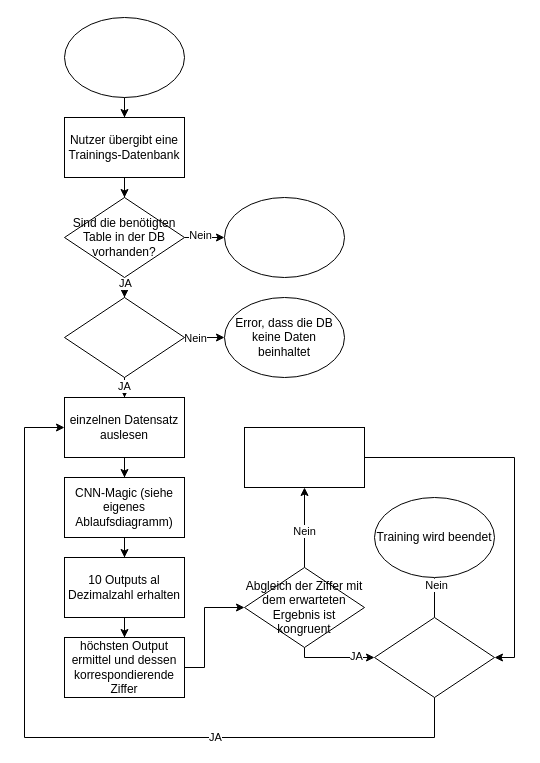
Image size: 540x763. Some labels were removed from this diagram. Each missing label, with the box of its shape:
Anpassung der einzelnen Knotenpunkte in den FC-Layern: (244, 426, 364, 488)
Error, dass die DB nicht korrekt gebaut ist: (224, 196, 344, 278)
Nutzer startet Applikation im Trainingsmodus: (64, 16, 184, 98)
Sind Daten in den Table vorhanden?: (64, 296, 184, 378)
Sind noch Daten vorhanden welche noch nicht behandelt wurden?: (374, 616, 494, 698)
